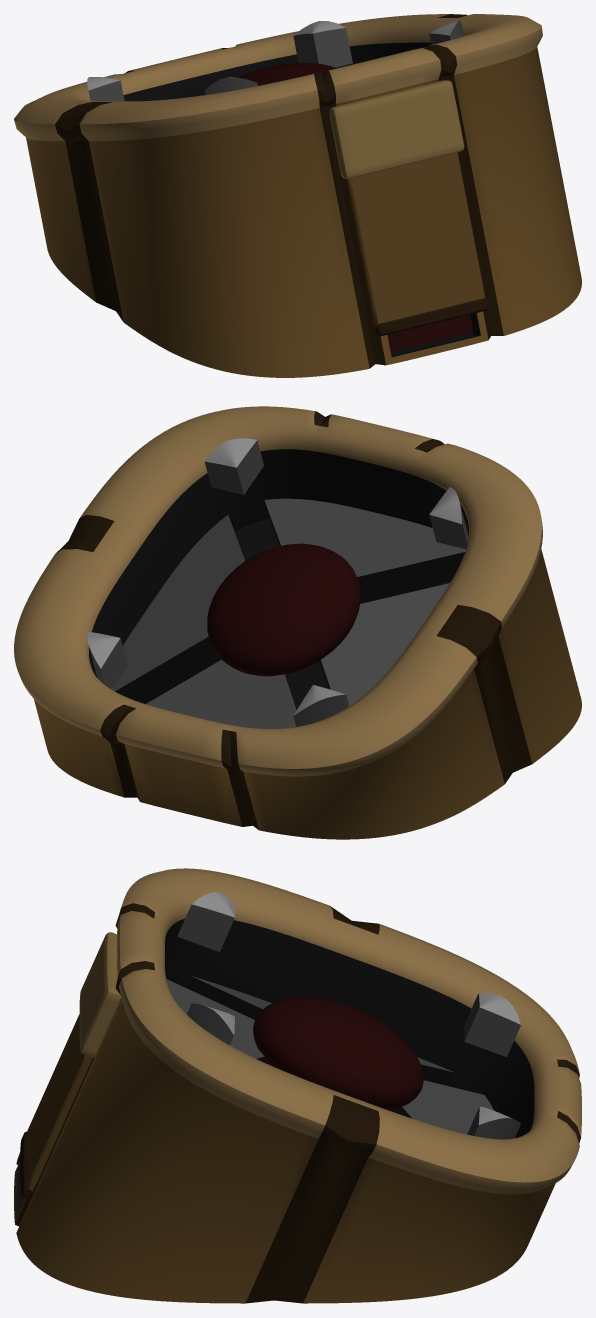
The model's file is eye_tub_199.glb.
3 views of the same model, one above another, from view 1: azimuth 30°, elevation 25°; view 2: azimuth 150°, elevation 25°; view 3: azimuth 270°, elevation 25° (orthographic). The views are drawn at different scales.
Visible parts, largest first — view 1: tub, shutter, band, petal0, lamp, shutter_lip, eye, petal1, petal2, petal3; view 2: tub, eye, housing2, housing3, housing0, housing1, petal3, petal2, petal0, petal1; view 3: tub, eye, shutter, band, housing1, petal1, petal2, housing0, housing3, petal0, petal3.
Part boxes in pixels (x1=…): tub: x1=14, y1=14, x2=581, y2=377; shutter: x1=346, y1=152, x2=485, y2=327; band: x1=329, y1=80, x2=464, y2=178; petal0: x1=293, y1=21, x2=352, y2=67; lamp: x1=387, y1=314, x2=473, y2=351; shutter_lip: x1=374, y1=298, x2=488, y2=336; eye: x1=238, y1=62, x2=336, y2=85; petal1: x1=87, y1=77, x2=124, y2=101; petal2: x1=204, y1=77, x2=257, y2=94; petal3: x1=429, y1=21, x2=463, y2=44; tub: x1=14, y1=406, x2=581, y2=839; eye: x1=207, y1=543, x2=360, y2=676; housing2: x1=111, y1=515, x2=244, y2=703; housing3: x1=264, y1=498, x2=465, y2=603; housing0: x1=318, y1=583, x2=449, y2=705; housing1: x1=146, y1=659, x2=296, y2=728; petal3: x1=204, y1=438, x2=263, y2=494; petal2: x1=429, y1=487, x2=468, y2=549; petal0: x1=87, y1=631, x2=127, y2=689; petal1: x1=293, y1=685, x2=348, y2=726; tub: x1=14, y1=868, x2=581, y2=1303; eye: x1=253, y1=997, x2=423, y2=1110; shutter: x1=26, y1=1014, x2=92, y2=1192; band: x1=79, y1=932, x2=121, y2=1057; housing1: x1=389, y1=1080, x2=493, y2=1134; petal1: x1=464, y1=993, x2=520, y2=1057; petal2: x1=177, y1=892, x2=234, y2=951; housing0: x1=185, y1=976, x2=455, y2=1086; housing3: x1=166, y1=979, x2=268, y2=1064; petal0: x1=467, y1=1106, x2=520, y2=1139; petal3: x1=186, y1=1003, x2=234, y2=1045.
Size of the model in its own units: 21.26 by 11.98 by 23.54.
